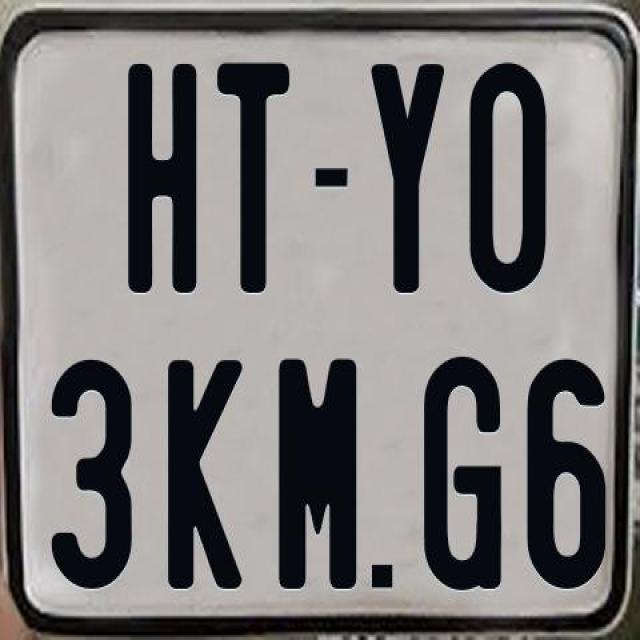0: (470, 58, 550, 292)
3: (48, 358, 131, 596)
6: (524, 357, 612, 590)
G: (422, 352, 504, 590)
H: (128, 60, 203, 298)
K: (168, 358, 251, 592)
M: (278, 355, 358, 592)
T: (216, 61, 296, 294)
Y: (370, 61, 446, 294)
